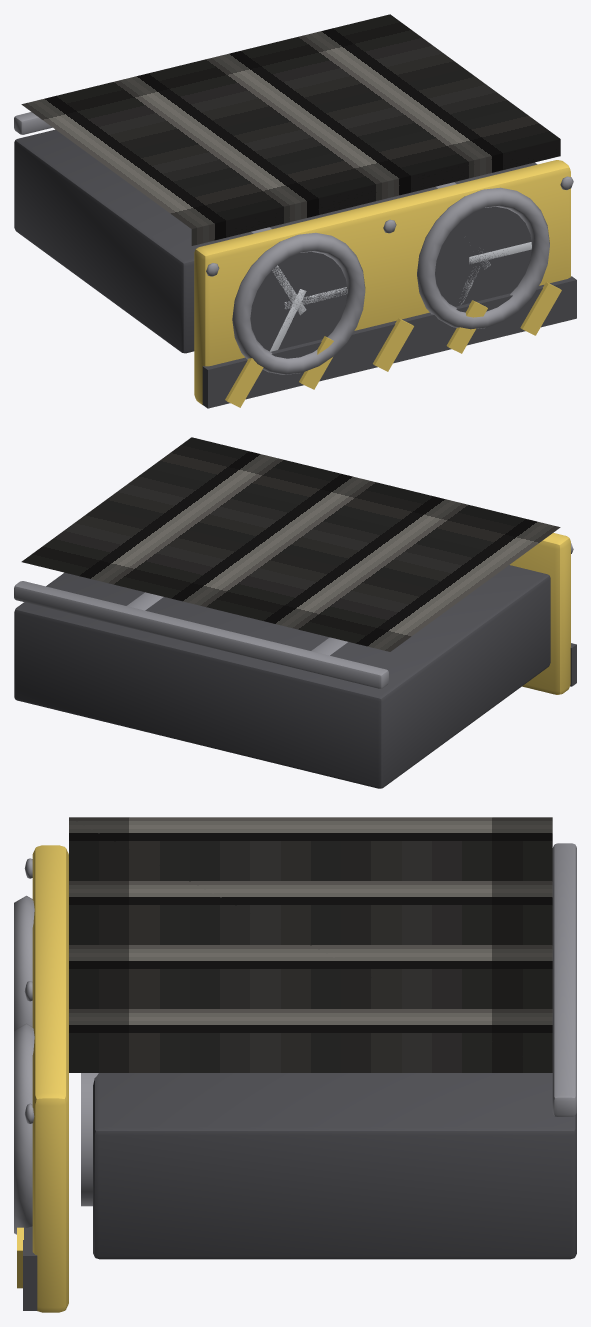
The model's file is tile_conveyor.glb.
3 renders of one model, top to bottom at view 1: azimuth 30°, elevation 25°; view 2: azimuth 150°, elevation 25°; view 3: azimuth 270°, elevation 25°, orthographic. The views are drawn at different scales.
Parts seen in each view (by area): view 1: tile_conveyor, belt, roller_a, roller_b; view 2: tile_conveyor, belt; view 3: belt, tile_conveyor, roller_b.
Boxes of the visible parts, x1=… form: tile_conveyor: x1=14, y1=112, x2=576, y2=408; belt: x1=21, y1=14, x2=560, y2=245; roller_a: x1=251, y1=227, x2=347, y2=351; roller_b: x1=436, y1=182, x2=531, y2=304; tile_conveyor: x1=14, y1=533, x2=576, y2=788; belt: x1=21, y1=437, x2=560, y2=651; belt: x1=69, y1=817, x2=552, y2=1072; tile_conveyor: x1=14, y1=843, x2=576, y2=1312; roller_b: x1=81, y1=1073, x2=98, y2=1206.
Bounding box in the file's own units: 0.5 × 0.2237 × 0.4654.
Materials: 5 (1 with a texture image).
